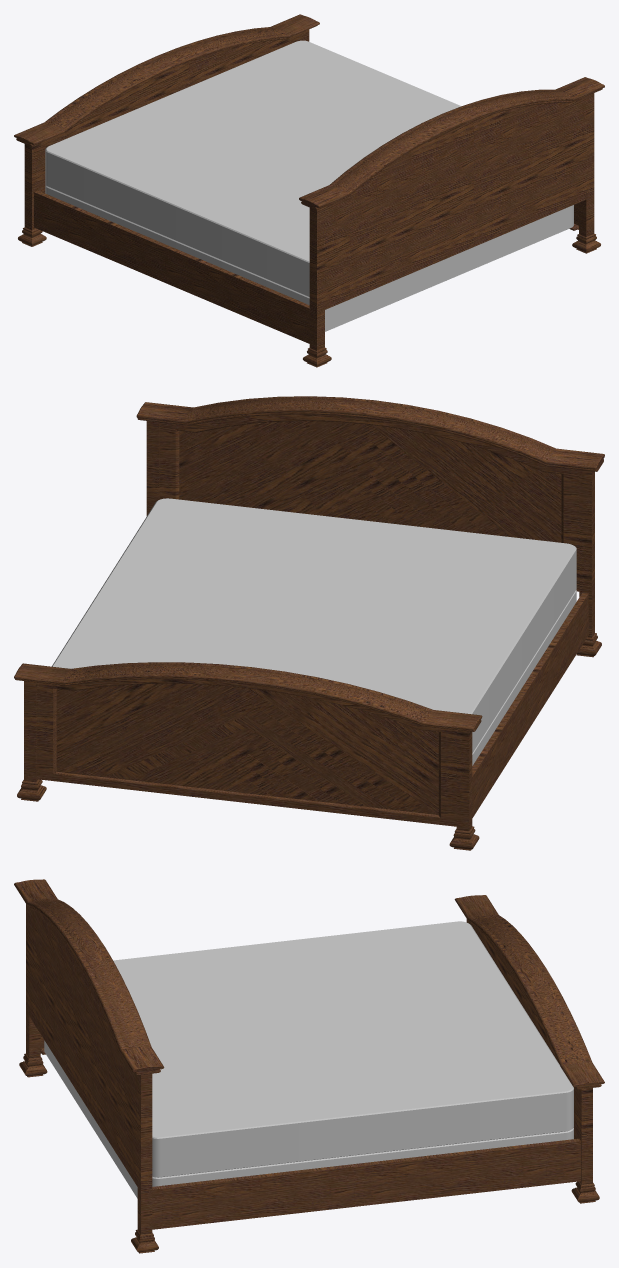
File: Proj_Headboard_asoWayfair.obj
3 views of the same model, one above another, from view 1: azimuth 30°, elevation 25°; view 2: azimuth 150°, elevation 25°; view 3: azimuth 270°, elevation 25° (orthographic). The views are drawn at different scales.
Visible parts, largest first — view 1: Mesh2 Interior_Component_HeadboardKingSz01a1 Interior_Furn_Bedro, Mesh3 Interior_Fabric_Bedding_MattressKing01_2 Interior_Furn_Bed, Mesh1 Interior_Fabric_Bedding_MattressKing01_1 Interior_Furn_Bed; view 2: Mesh2 Interior_Component_HeadboardKingSz01a1 Interior_Furn_Bedro, Mesh3 Interior_Fabric_Bedding_MattressKing01_2 Interior_Furn_Bed, Mesh1 Interior_Fabric_Bedding_MattressKing01_1 Interior_Furn_Bed; view 3: Mesh3 Interior_Fabric_Bedding_MattressKing01_2 Interior_Furn_Bed, Mesh2 Interior_Component_HeadboardKingSz01a1 Interior_Furn_Bedro, Mesh1 Interior_Fabric_Bedding_MattressKing01_1 Interior_Furn_Bed.
Boxes of the visible parts, x1,y1,x2,y2 form: Mesh2 Interior_Component_HeadboardKingSz01a1 Interior_Furn_Bedro: (14,14,604,367); Mesh3 Interior_Fabric_Bedding_MattressKing01_2 Interior_Furn_Bed: (45,40,461,296); Mesh1 Interior_Fabric_Bedding_MattressKing01_1 Interior_Furn_Bed: (45,185,573,331); Mesh2 Interior_Component_HeadboardKingSz01a1 Interior_Furn_Bedro: (14,396,604,850); Mesh3 Interior_Fabric_Bedding_MattressKing01_2 Interior_Furn_Bed: (52,498,576,752); Mesh1 Interior_Fabric_Bedding_MattressKing01_1 Interior_Furn_Bed: (472,590,576,765); Mesh3 Interior_Fabric_Bedding_MattressKing01_2 Interior_Furn_Bed: (113,921,573,1177); Mesh2 Interior_Component_HeadboardKingSz01a1 Interior_Furn_Bedro: (14,879,604,1253); Mesh1 Interior_Fabric_Bedding_MattressKing01_1 Interior_Furn_Bed: (44,1040,573,1198).
Bounding box in the file's own units: 103 × 42.88 × 107.
